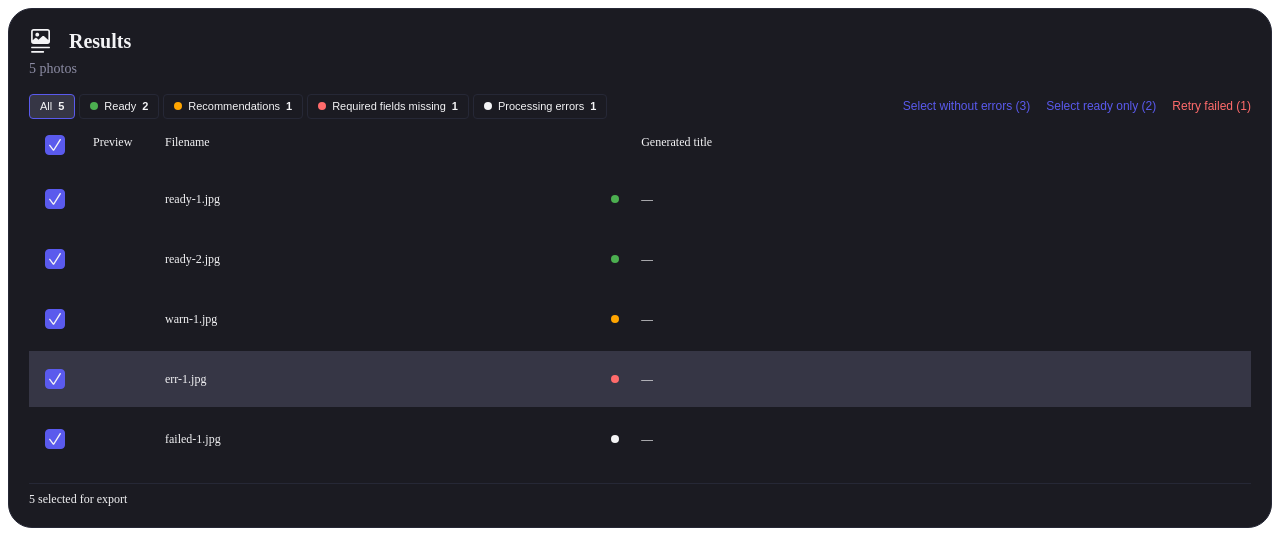
Test case: выбранный файл, выпавший из фильтра, остаётся выбранным
This screenshot has width=1280, height=545.
Click the button with aria-label "Ready (2)": point(119, 106) x1=79 y1=94 x2=159 y2=119
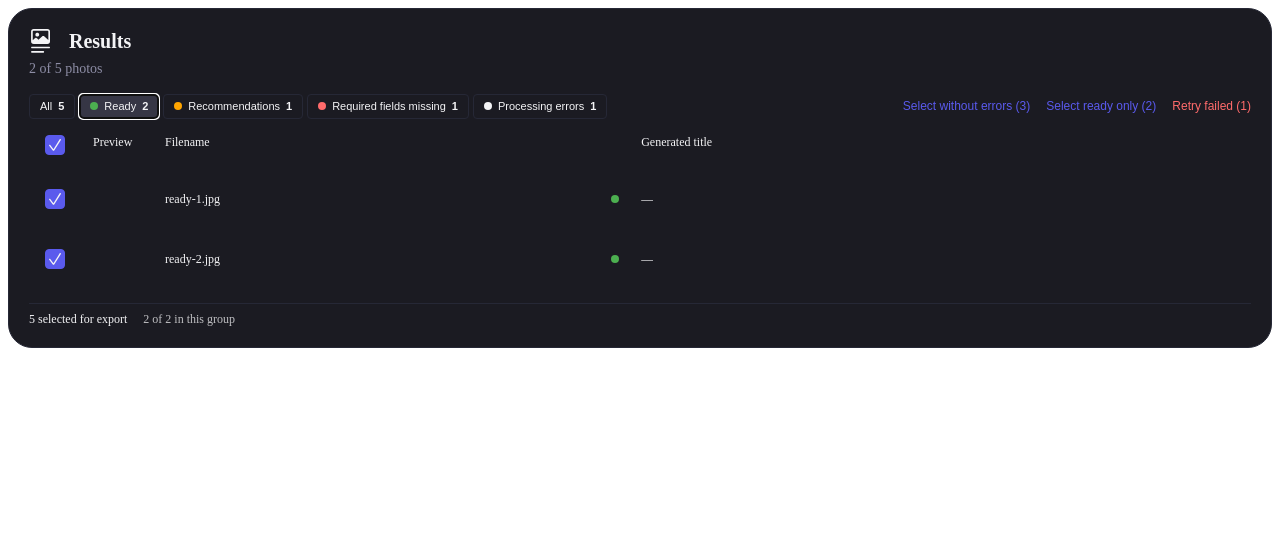
Now the button "err-1.jpg" is gone
